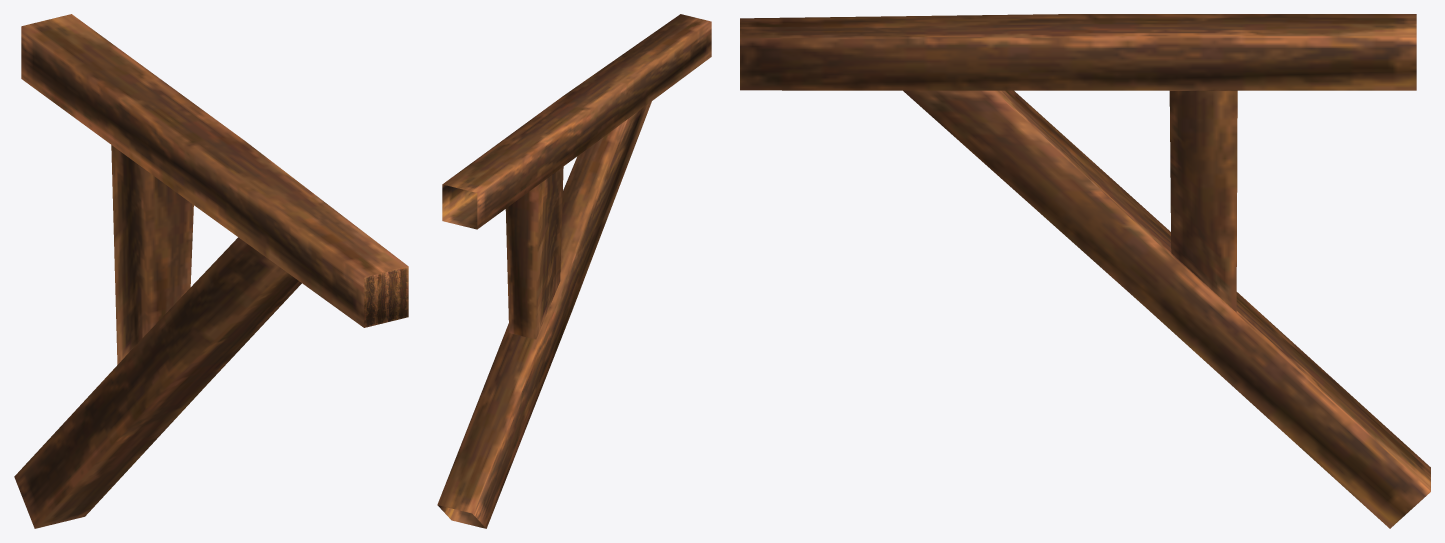
Rendered from INST_SWORDLIGHT_TRACKBRACKB.fbx.
The picture shows the model from 3 angles, left to right: view 1: azimuth 30°, elevation 25°; view 2: azimuth 150°, elevation 25°; view 3: azimuth 270°, elevation 25°; orthographic projection. The views are drawn at different scales.
Visible parts, largest first — view 1: INST_SWORDLIGHT_TRACKBRACKB; view 2: INST_SWORDLIGHT_TRACKBRACKB; view 3: INST_SWORDLIGHT_TRACKBRACKB.
Boxes of the visible parts, x1=… form: INST_SWORDLIGHT_TRACKBRACKB: x1=14, y1=14, x2=408, y2=528; INST_SWORDLIGHT_TRACKBRACKB: x1=437, y1=14, x2=711, y2=528; INST_SWORDLIGHT_TRACKBRACKB: x1=740, y1=14, x2=1430, y2=528.
Bounding box in the file's own units: 4579 × 42865 × 54710.
1 material, 1 textured.
